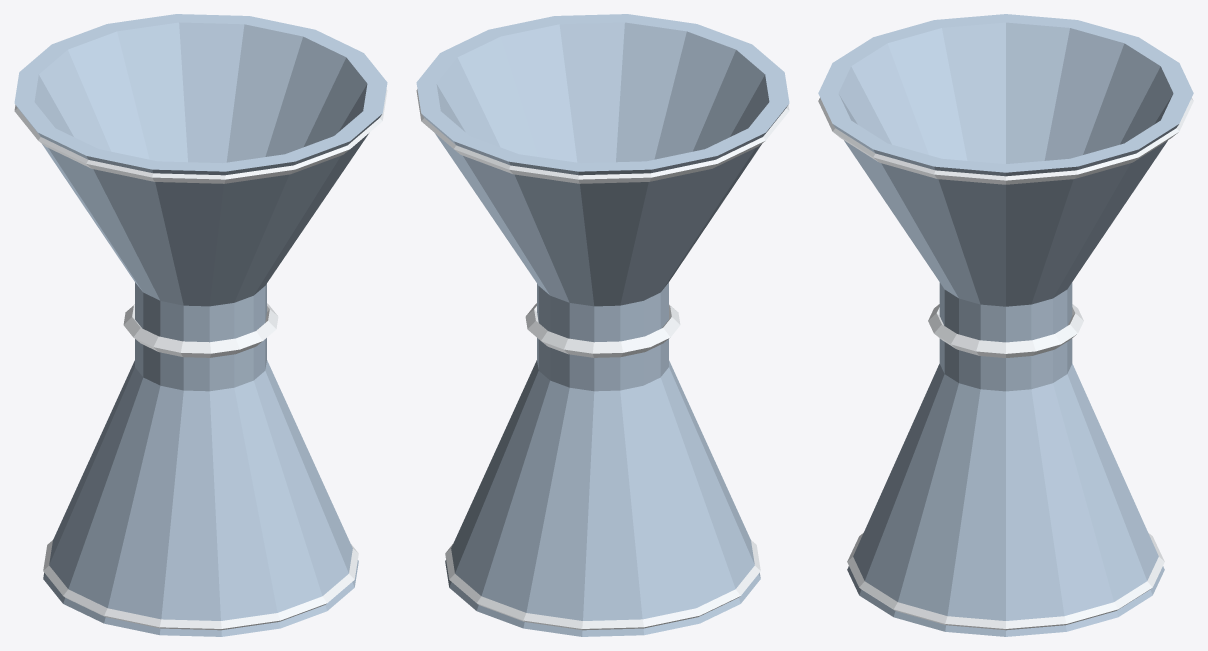
The model's file is jigger_large.glb.
The picture shows the model from 3 angles, left to right: view 1: azimuth 30°, elevation 25°; view 2: azimuth 150°, elevation 25°; view 3: azimuth 270°, elevation 25°; orthographic projection.
Parts seen in each view (by area): view 1: UpperCup, LowerCup, Waist, LowerRim, UpperRim, WaistBand; view 2: UpperCup, LowerCup, Waist, LowerRim, UpperRim, WaistBand; view 3: UpperCup, LowerCup, Waist, LowerRim, UpperRim, WaistBand.
Part boxes in pixels (bbox=[...]): UpperCup: bbox=[14, 14, 387, 306]; LowerCup: bbox=[43, 360, 358, 636]; Waist: bbox=[135, 282, 266, 391]; LowerRim: bbox=[43, 540, 358, 630]; UpperRim: bbox=[14, 89, 387, 183]; WaistBand: bbox=[123, 303, 278, 357]; UpperCup: bbox=[416, 14, 789, 306]; LowerCup: bbox=[445, 360, 760, 636]; Waist: bbox=[537, 282, 668, 391]; LowerRim: bbox=[445, 540, 760, 630]; UpperRim: bbox=[416, 89, 789, 183]; WaistBand: bbox=[525, 303, 680, 357]; UpperCup: bbox=[818, 14, 1193, 306]; LowerCup: bbox=[847, 364, 1164, 636]; Waist: bbox=[939, 282, 1072, 391]; LowerRim: bbox=[847, 532, 1164, 630]; UpperRim: bbox=[818, 97, 1193, 184]; WaistBand: bbox=[928, 304, 1083, 357].
Bounding box in the file's own units: 0.15 × 0.21 × 0.15.
